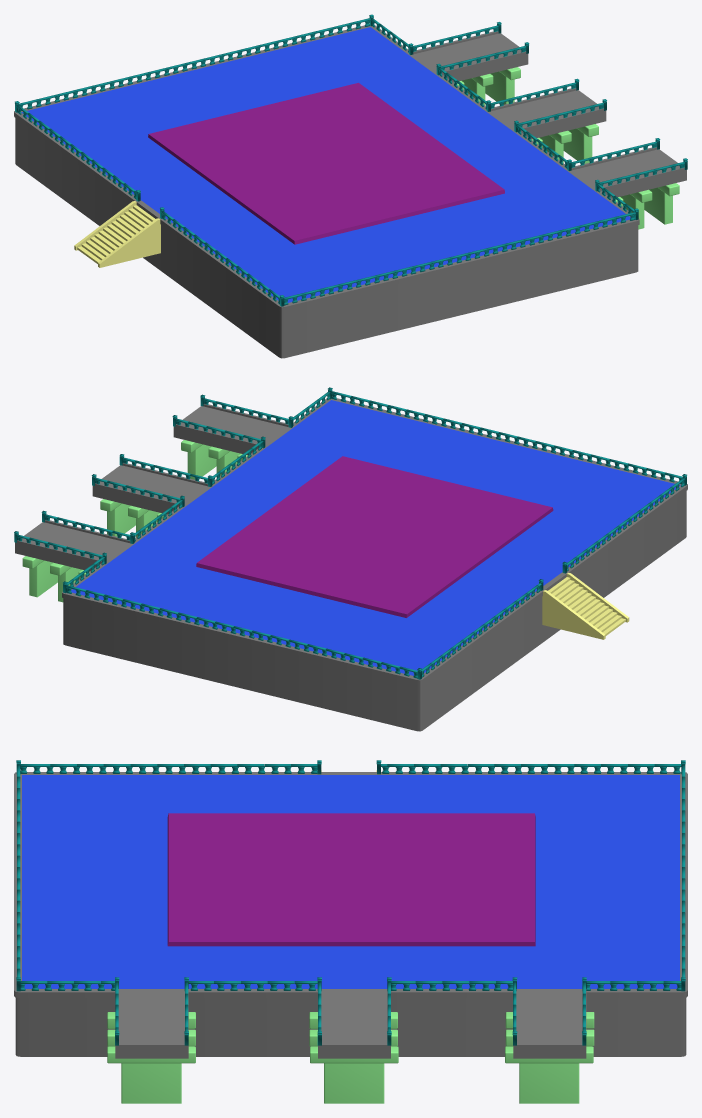
Rendered from 만세산.fbx.
The picture shows the model from 3 angles, top to bottom: view 1: azimuth 30°, elevation 25°; view 2: azimuth 150°, elevation 25°; view 3: azimuth 270°, elevation 25°; orthographic projection. The views are drawn at different scales.
Parts seen in each view (by area): view 1: akstp; view 2: akstp; view 3: akstp.
Part boxes in pixels (<box>): akstp: <box>14,14,687,358</box>; akstp: <box>14,387,687,731</box>; akstp: <box>14,760,687,1103</box>.
Bounding box in the file's own units: 5501 × 643 × 5043.
